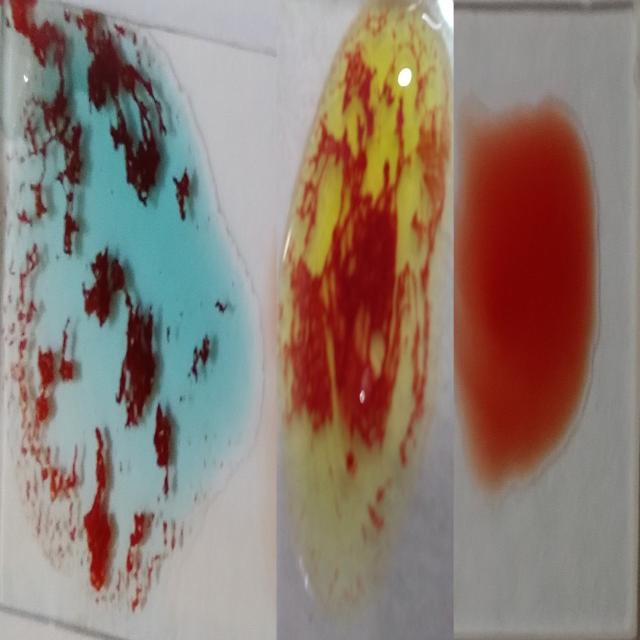A: (8, 4, 228, 607)
B: (284, 5, 454, 618)
